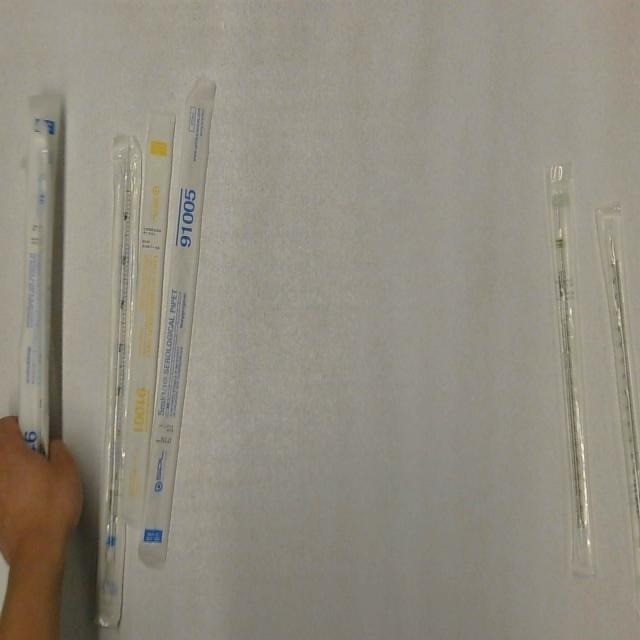Serelogical Pipet 1 mL - Sealed: (120, 108, 180, 533)
Serelogical Pipet 2 mL - Sealed: (544, 153, 598, 581)
Serelogical Pipet 5 mL - Sealed: (138, 74, 218, 569), (92, 128, 144, 631), (15, 91, 70, 460)
